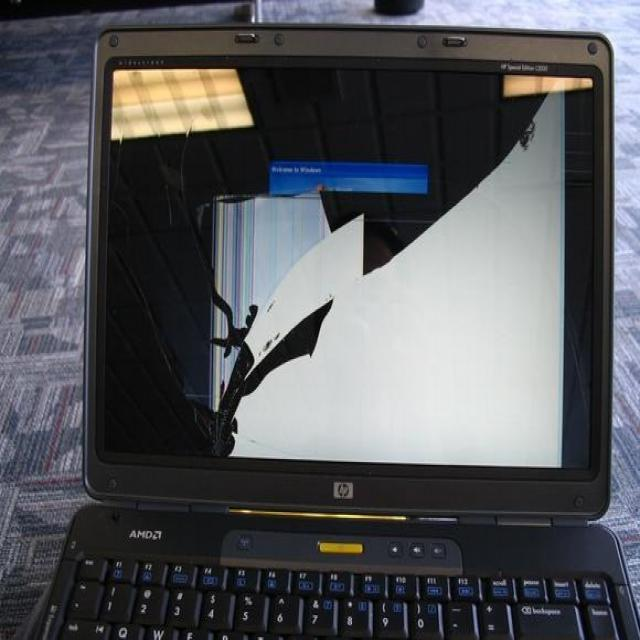Screen cracks: (104, 66, 578, 474)
